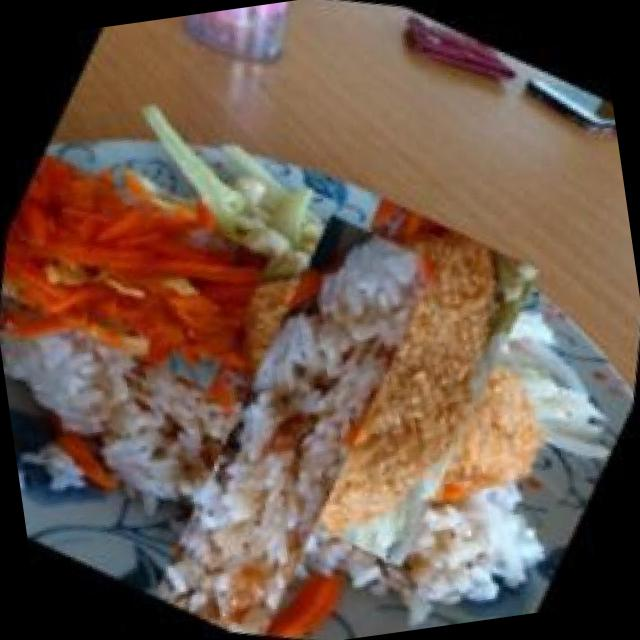carrot_eggs: (0, 111, 311, 427)
fried_chicken: (175, 165, 610, 600)
rice: (4, 195, 546, 640)
